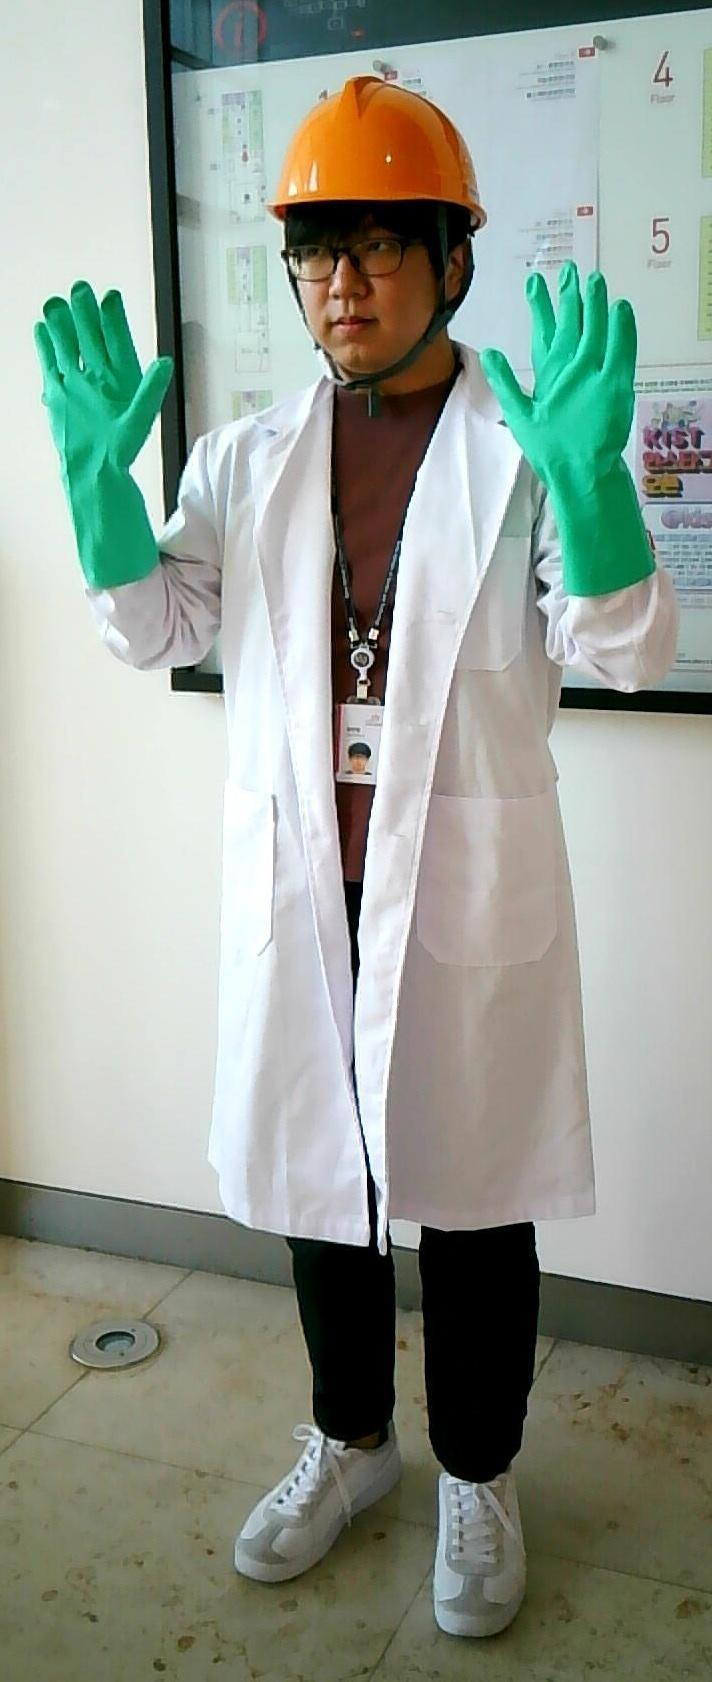lab_coat: (197, 474, 544, 1219)
